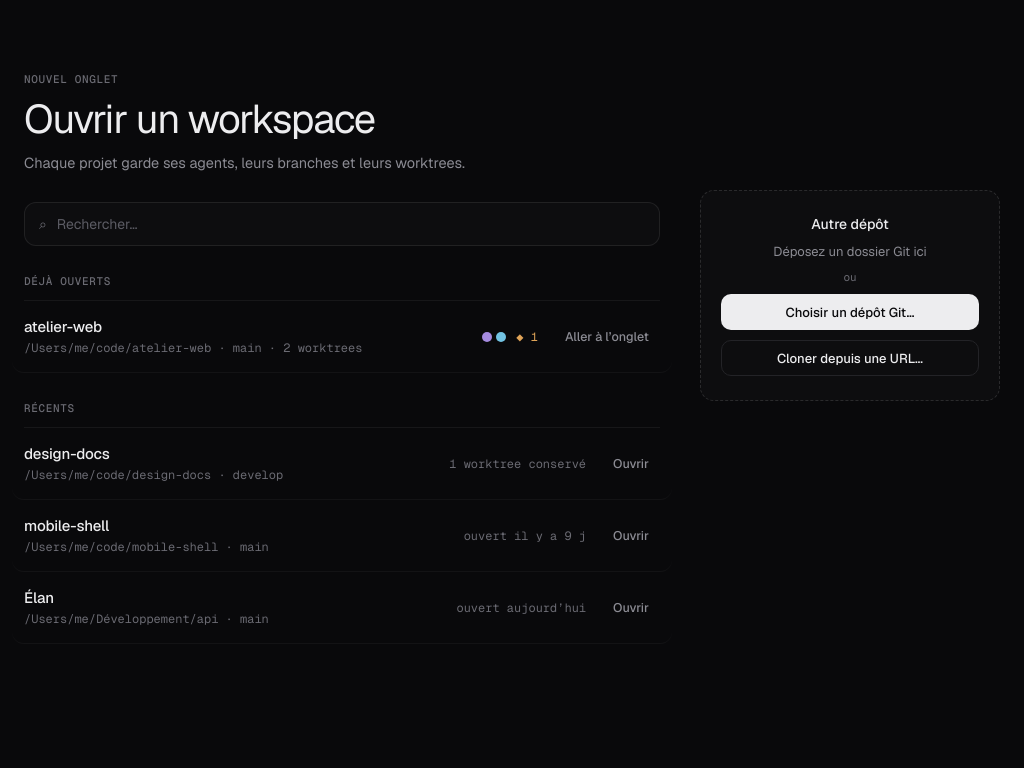
Test: Home (1a) › filters projects with « Rechercher… », ignoring case and accents
Type "elan" into the search field named "Rechercher…" at (351, 224), box [57, 216, 645, 234]
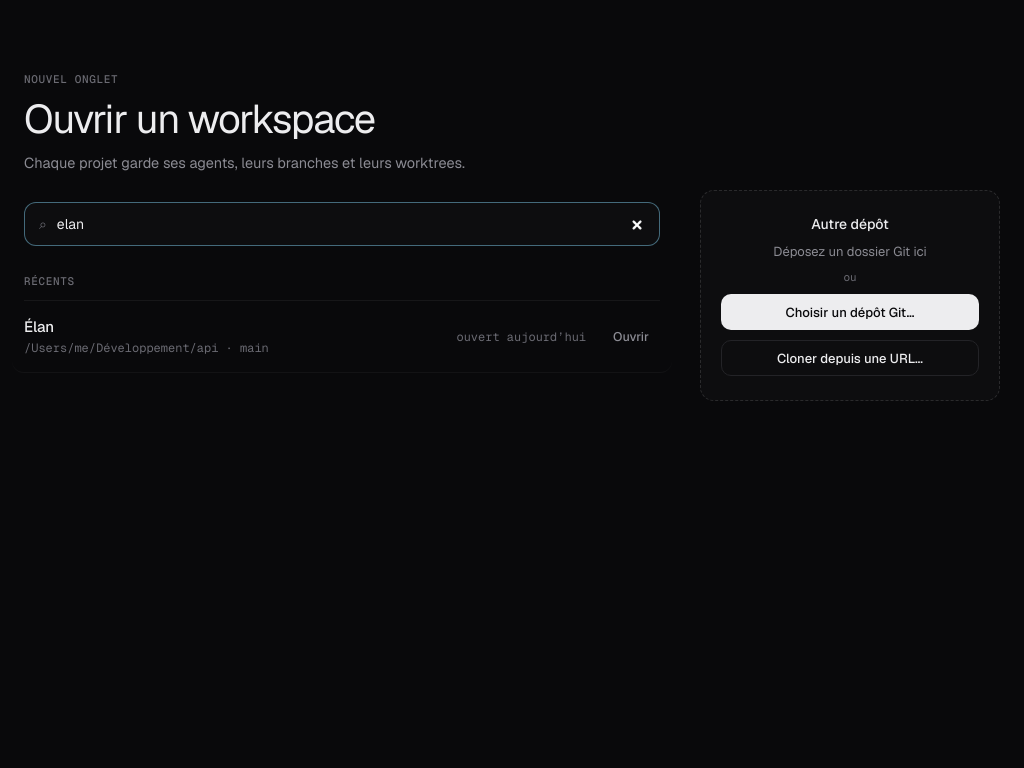
Now the number of list items is 1, box [12, 302, 672, 374]
Now the heading "Déjà ouverts" is gone
